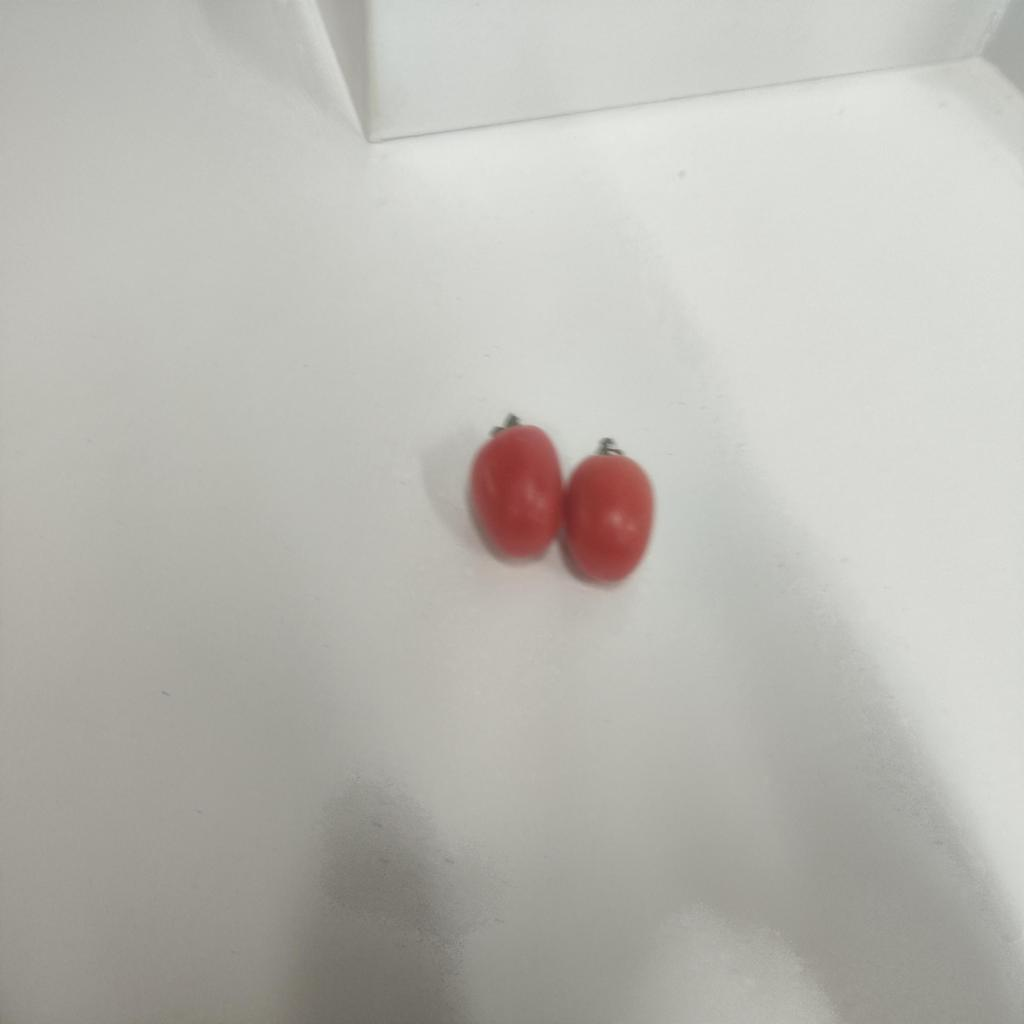tomato: (460, 418, 569, 560), (559, 446, 658, 586)
